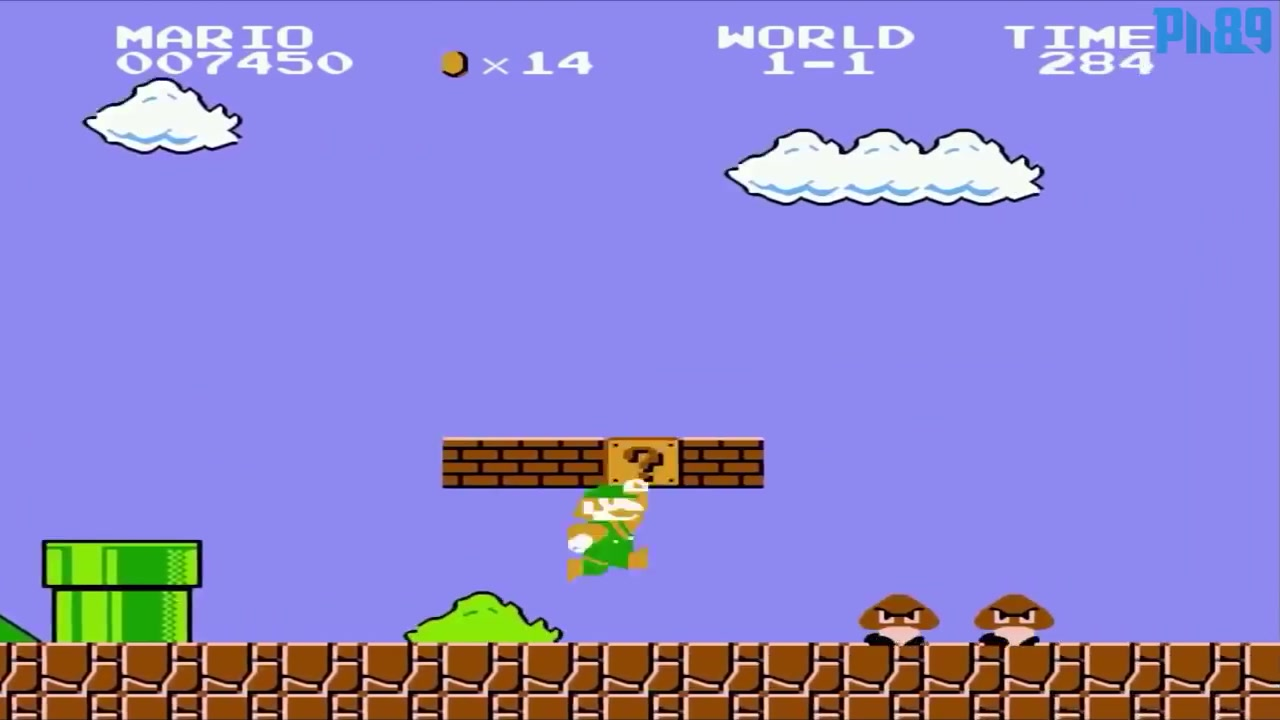mario: (564, 473, 662, 585)
